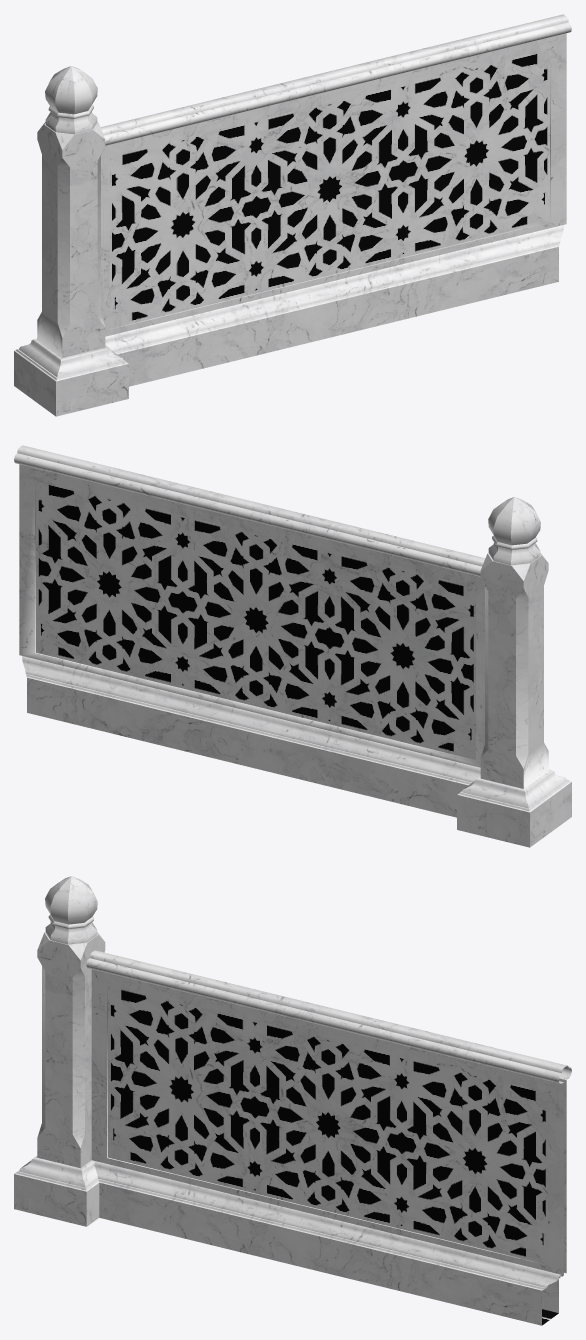
Rendered from Balustrade.fbx.
The picture shows the model from 3 angles, top to bottom: view 1: azimuth 30°, elevation 25°; view 2: azimuth 150°, elevation 25°; view 3: azimuth 330°, elevation 25°; orthographic projection.
Parts seen in each view (by area): view 1: Balustrade; view 2: Balustrade; view 3: Balustrade.
Boxes of the visible parts, bbox=[...] form: Balustrade: bbox=[14, 14, 571, 416]; Balustrade: bbox=[14, 445, 571, 847]; Balustrade: bbox=[14, 876, 571, 1325].
Size of the model in its own units: 2.06 by 1.21 by 0.2826.
